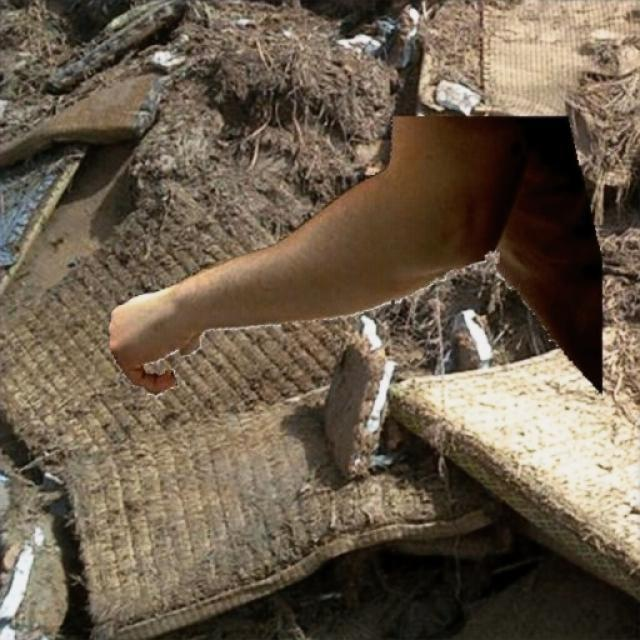Person in Rubble: (109, 116, 602, 396)
